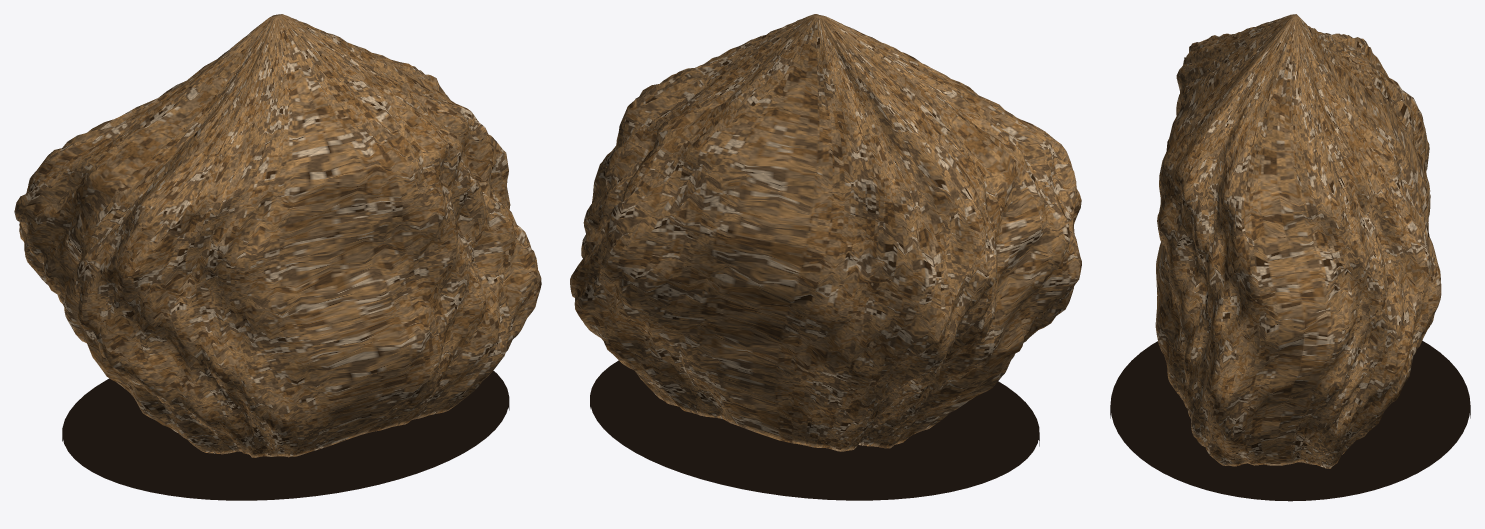
The model's file is lingstone-concept-08-v19.glb.
3 renders of one model, left to right at view 1: azimuth 30°, elevation 25°; view 2: azimuth 150°, elevation 25°; view 3: azimuth 270°, elevation 25°, orthographic. The views are drawn at different scales.
Visible parts, largest first — view 1: XY-CONCEPT-008 concept stone, Concept display plinth; view 2: XY-CONCEPT-008 concept stone, Concept display plinth; view 3: XY-CONCEPT-008 concept stone, Concept display plinth.
Boxes of the visible parts, x1=… form: XY-CONCEPT-008 concept stone: x1=14, y1=14, x2=541, y2=457; Concept display plinth: x1=62, y1=370, x2=509, y2=500; XY-CONCEPT-008 concept stone: x1=570, y1=14, x2=1081, y2=451; Concept display plinth: x1=590, y1=360, x2=1039, y2=500; XY-CONCEPT-008 concept stone: x1=1155, y1=14, x2=1441, y2=468; Concept display plinth: x1=1110, y1=341, x2=1470, y2=501.
Size of the model in its own units: 1.67 by 1.45 by 1.19.
2 materials, 1 textured.
